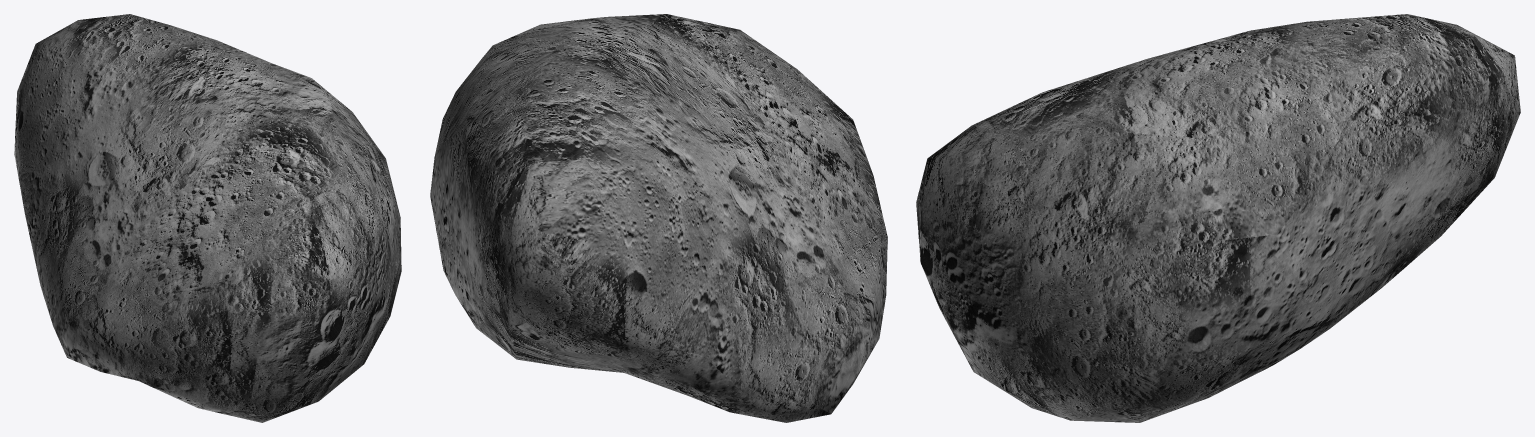
The model's file is astroid 2.fbx.
3 renders of one model, left to right at view 1: azimuth 30°, elevation 25°; view 2: azimuth 150°, elevation 25°; view 3: azimuth 270°, elevation 25°, orthographic. The views are drawn at different scales.
Parts seen in each view (by area): view 1: Icosphere; view 2: Icosphere; view 3: Icosphere.
Part boxes in pixels (x1,y1,x2,y2): Icosphere: [14, 14, 401, 422]; Icosphere: [430, 14, 887, 422]; Icosphere: [916, 14, 1520, 422].
Size of the model in its own units: 775 by 712 by 1047.
